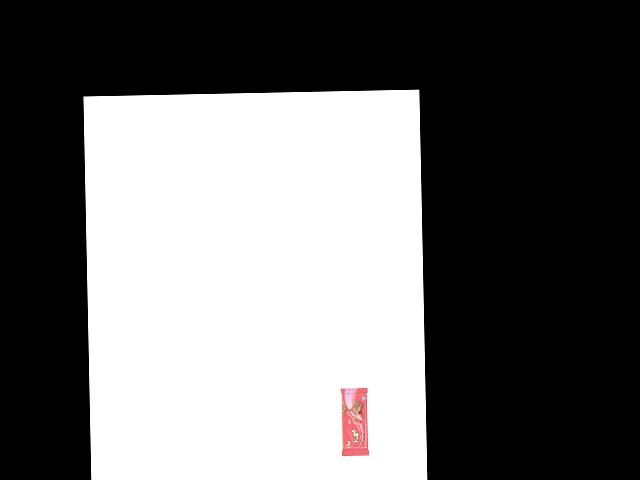chocolate: (340, 387, 373, 461)
